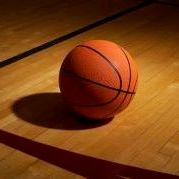basketball: (57, 38, 139, 121)
